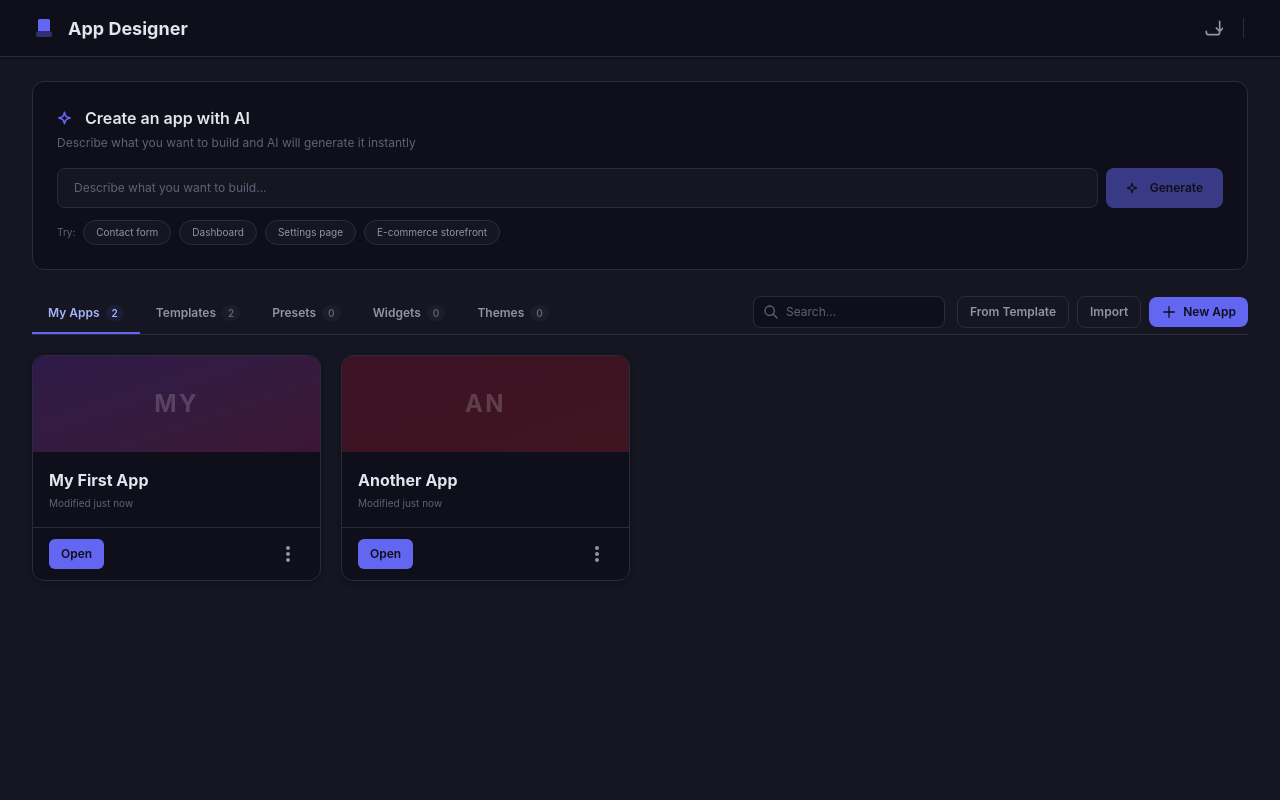
Test: Dashboard › should open the create app modal when "New App" is clicked
Expected: the heading "My First App" is shown, [49,470,148,490]
Click the button "New App".
click(1199, 312)  # box [1149,297,1248,327]
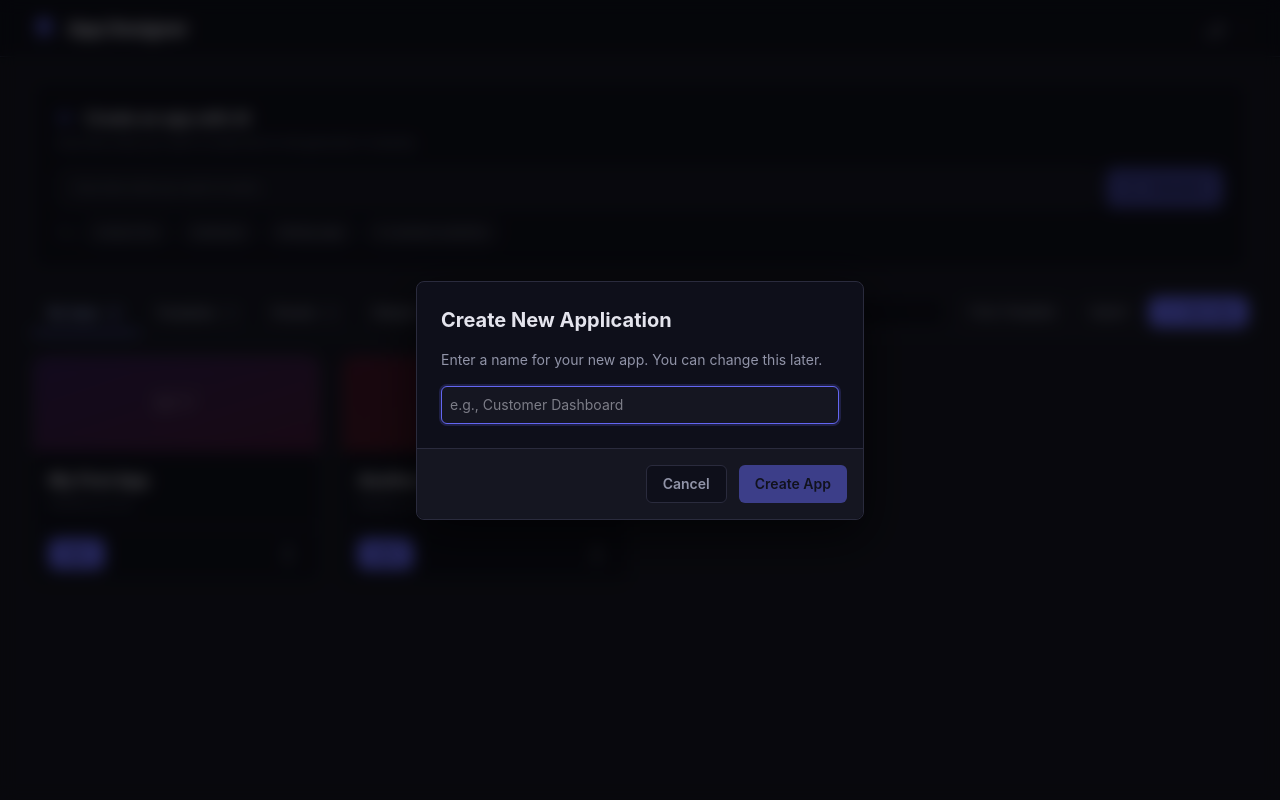
Expected: the heading "Create New Application" is shown, [441,308,672,332]
